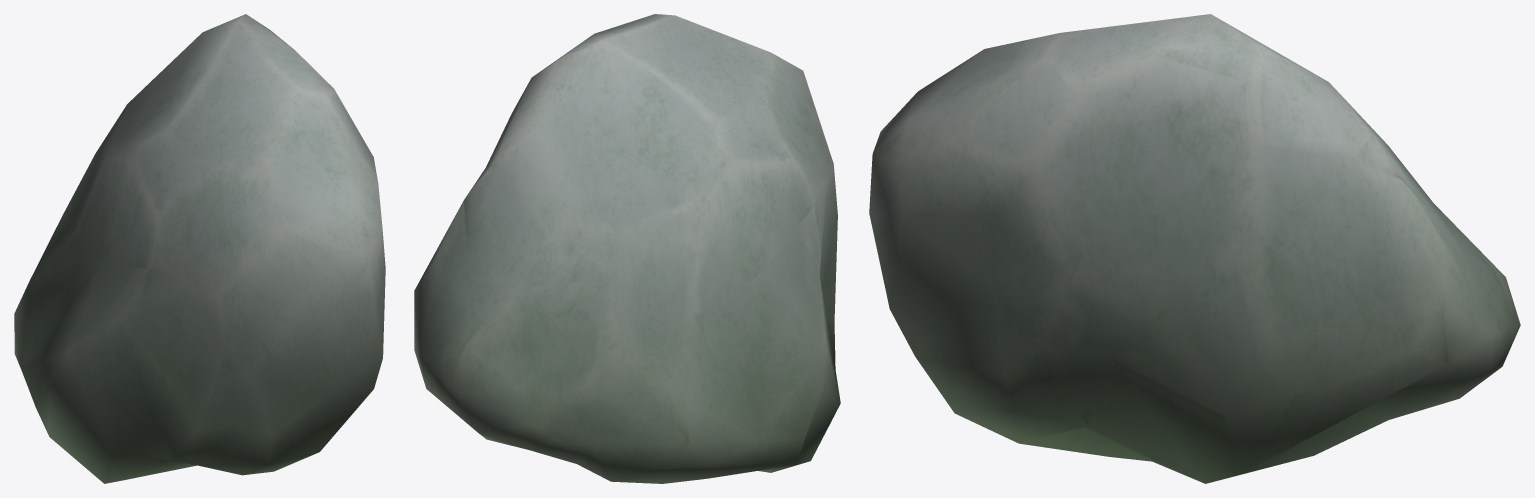
File: pedras.fbx
The picture shows the model from 3 angles, left to right: view 1: azimuth 30°, elevation 25°; view 2: azimuth 150°, elevation 25°; view 3: azimuth 270°, elevation 25°; orthographic projection. The views are drawn at different scales.
Visible parts, largest first — view 1: pedra low.005; view 2: pedra low.005; view 3: pedra low.005.
Part boxes in pixels (x1,y1,x2,y2): pedra low.005: (14, 14, 385, 483); pedra low.005: (414, 14, 840, 483); pedra low.005: (869, 14, 1520, 483).
Size of the model in its own units: 2140 by 2717 by 3297.
